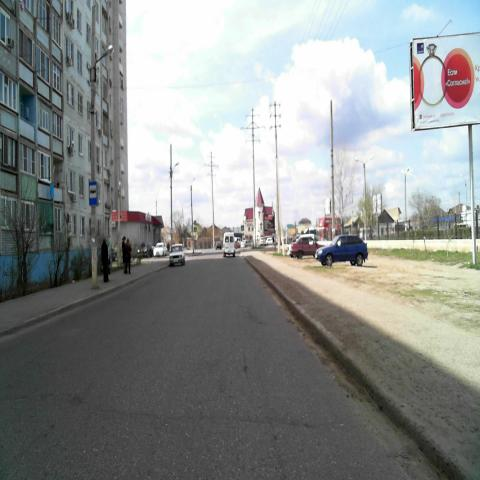5_16: (89, 183, 97, 205)
